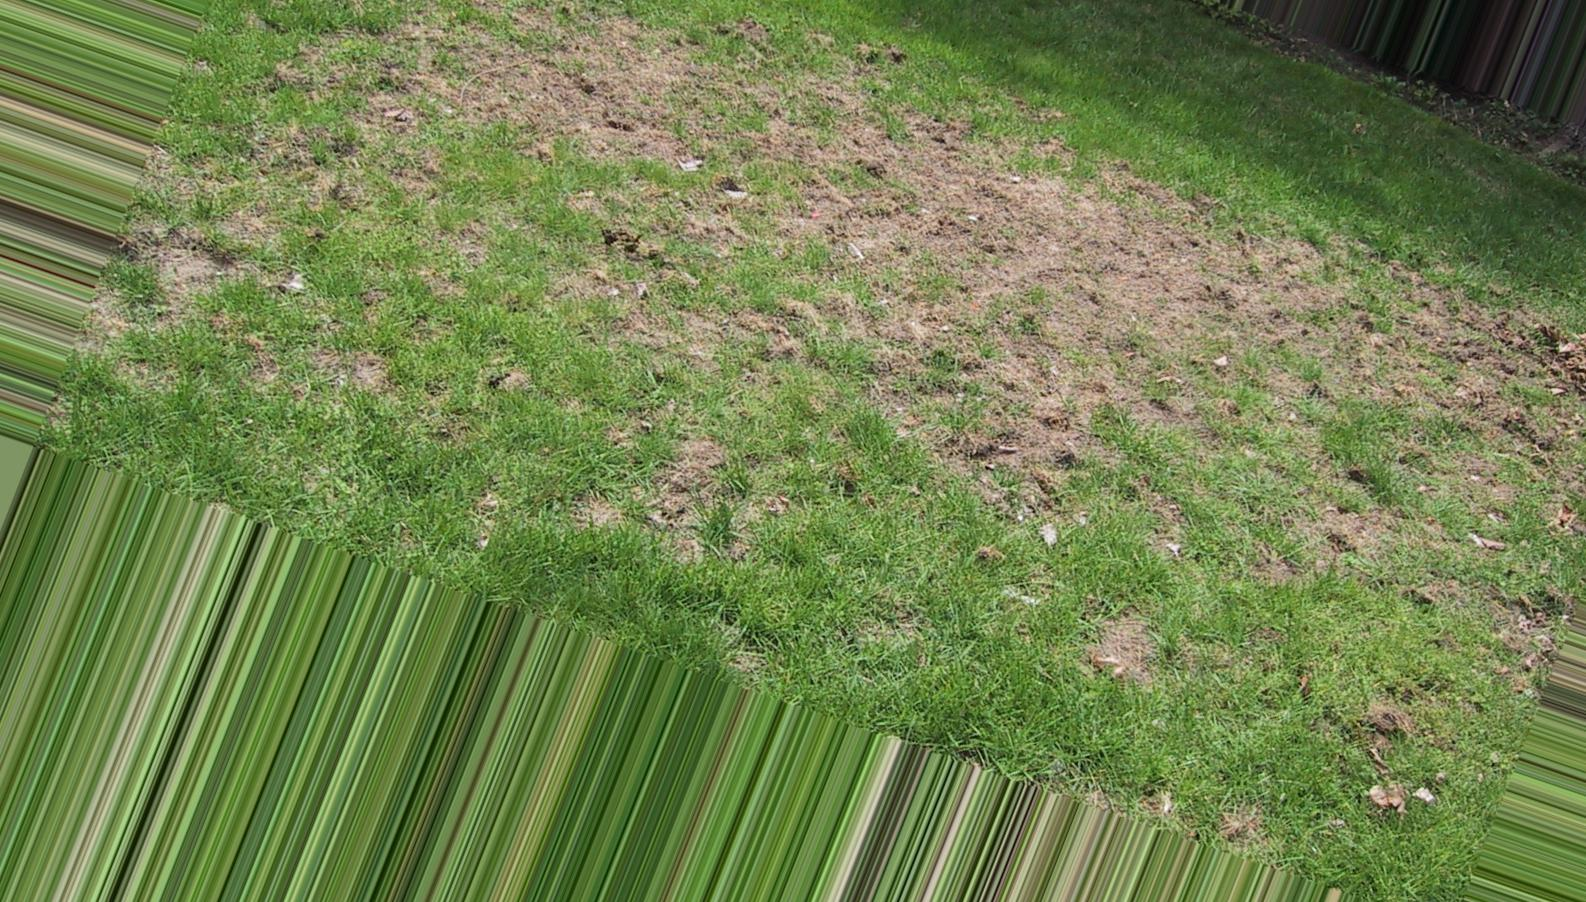patch: (845, 130, 1042, 476), (535, 54, 725, 166), (1049, 211, 1166, 304)
